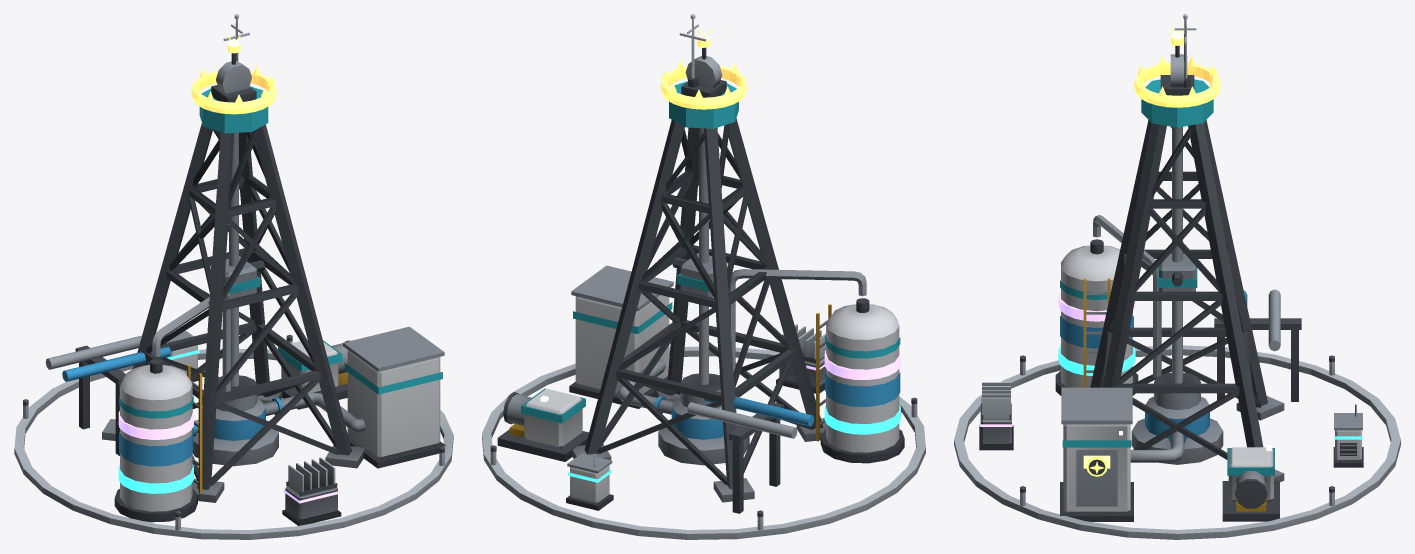
The model's file is water_extractor_l.glb.
3 views of the same model, side by side, from view 1: azimuth 30°, elevation 25°; view 2: azimuth 150°, elevation 25°; view 3: azimuth 270°, elevation 25° (orthographic).
Parts seen in each view (by area): view 1: Base, L2, L4, L5, L3; view 2: Base, L2, L3, L4, L5; view 3: Base, L2, L5, L4, L3.
Part boxes in pixels (box(x1,y1,x2,y2)): Base: box(45, 61, 445, 522); L2: box(14, 14, 453, 539); L4: box(118, 410, 341, 525); L5: box(191, 35, 276, 114); L3: box(118, 331, 199, 493); Base: box(497, 55, 904, 513); L2: box(482, 14, 925, 539); L3: box(566, 405, 900, 510); L4: box(776, 324, 900, 393); L5: box(660, 30, 747, 109); Base: box(1055, 54, 1301, 521); L2: box(954, 14, 1400, 539); L5: box(1086, 28, 1220, 476); L4: box(979, 290, 1135, 450); L3: box(1058, 345, 1363, 467).
Bounding box in the file's own units: 6.66 × 7.16 × 6.66.
